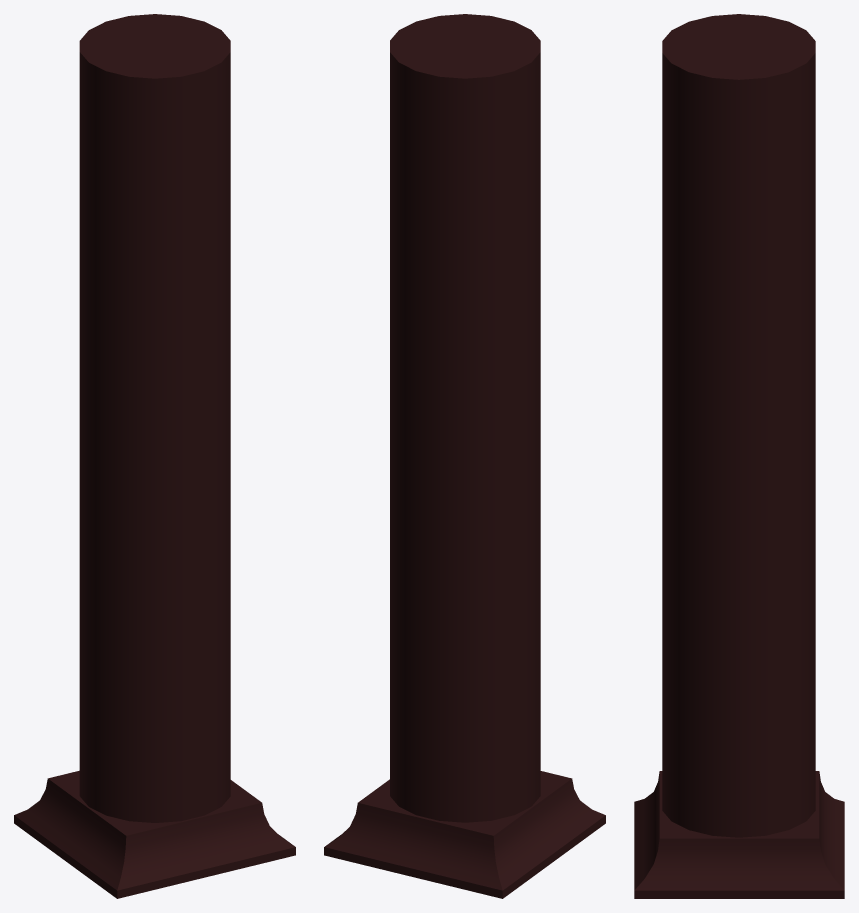
The model's file is Säule.fbx.
3 views of the same model, side by side, from view 1: azimuth 30°, elevation 25°; view 2: azimuth 150°, elevation 25°; view 3: azimuth 270°, elevation 25° (orthographic).
Parts seen in each view (by area): view 1: Säule; view 2: Säule; view 3: Säule.
Part boxes in pixels (x1,y1,x2,y2): Säule: (14,14,295,898); Säule: (324,14,605,898); Säule: (634,14,844,898).
Bounding box in the file's own units: 54.96 × 233 × 54.96.
